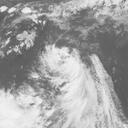cyclone: (43, 46, 83, 81)
